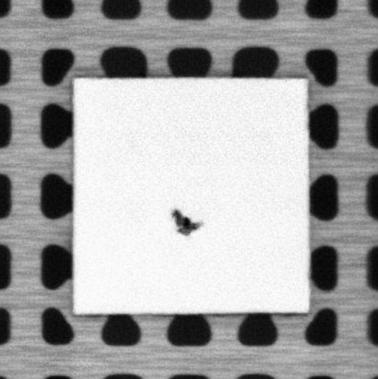DIE_INK: (171, 210, 203, 238)
